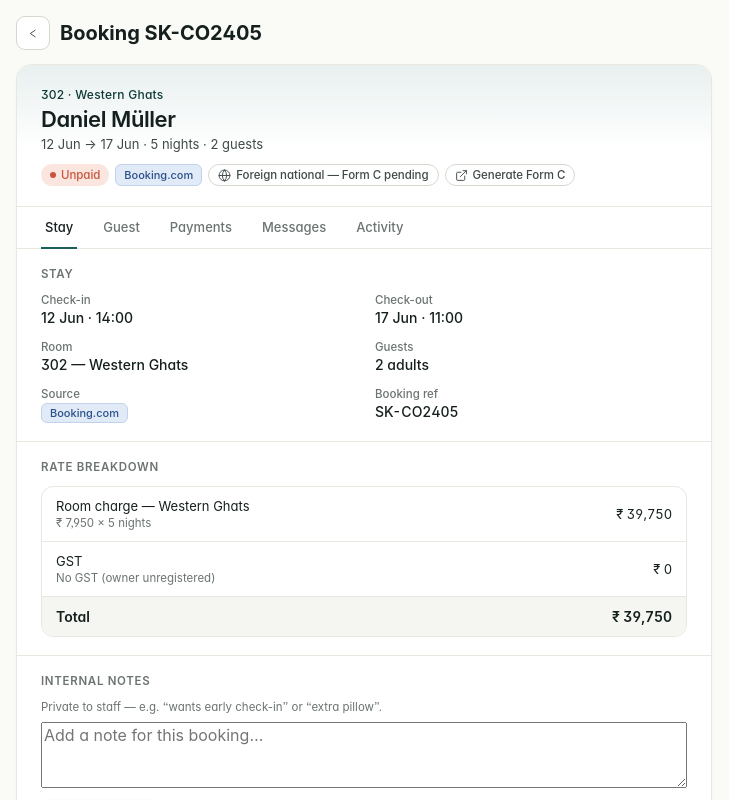
it: BookingDetailView foreign-national badge › masks the ID document when only the last-4 is missing
The width and height of the screenshot is (729, 800).
Step 1. Click the button "Guest" → click(122, 228), box [99,207,144,249]
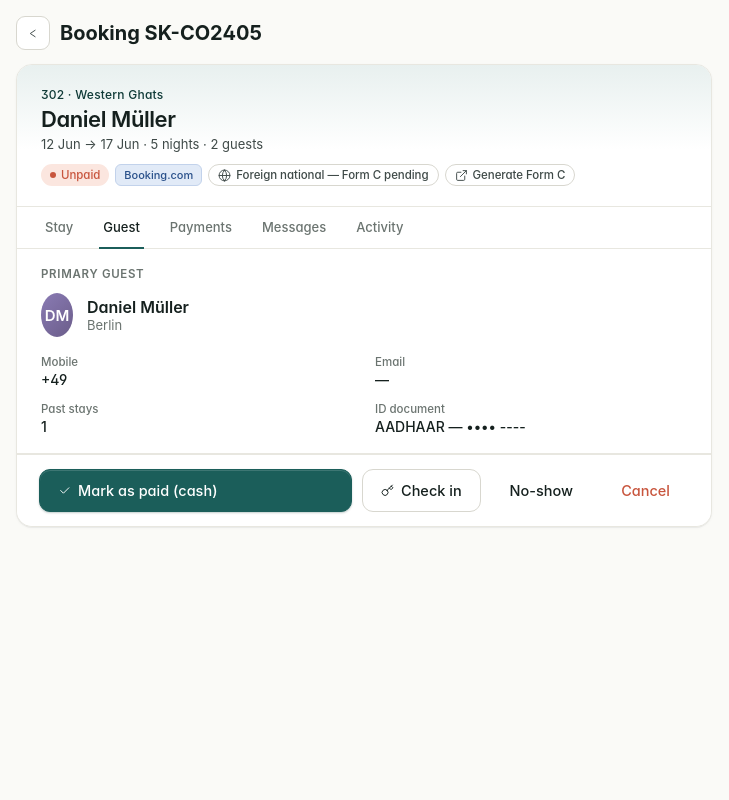
Check: the text "AADHAAR — •••• ----" is shown, box [375,418,526,435]
